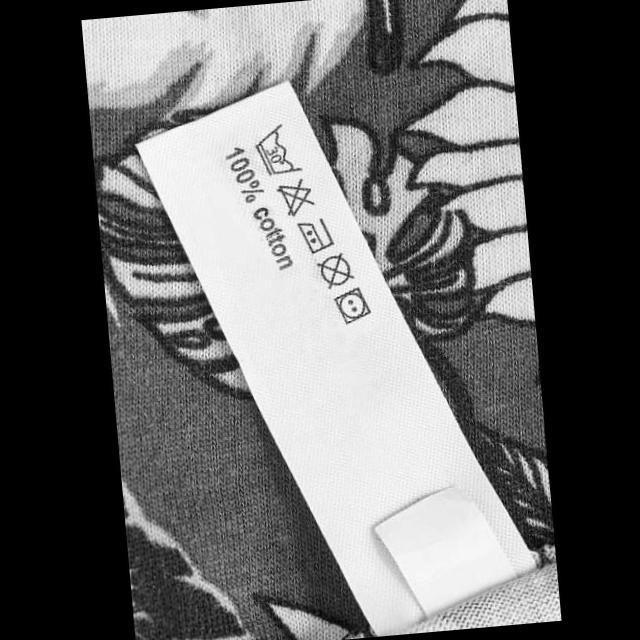30C: (250, 120, 304, 178)
DN_bleach: (272, 174, 316, 222)
DN_dry_clean: (311, 250, 357, 292)
iron_medium: (292, 214, 334, 256)
tumble_dry_medium: (330, 284, 372, 327)
